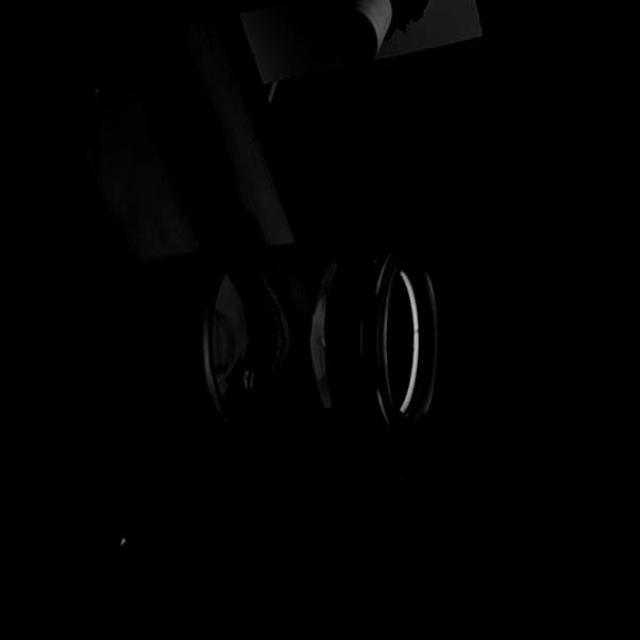defect: (318, 336, 332, 372)
glass: (188, 209, 451, 466)
